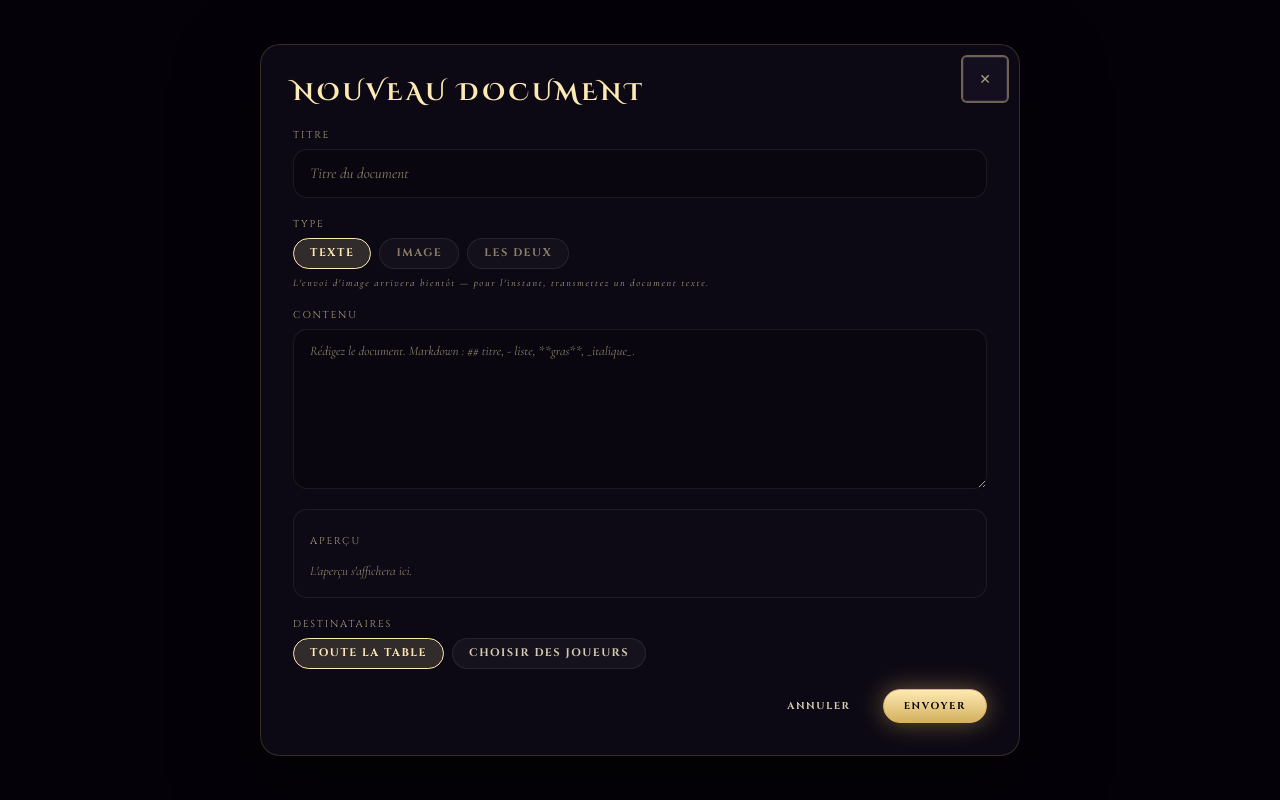
Test: HandoutEditorModal — création › bloque l’envoi sans contenu
Type "Une lettre" into the field with placeholder "Titre du document" at (640, 174), box [293, 149, 987, 198]
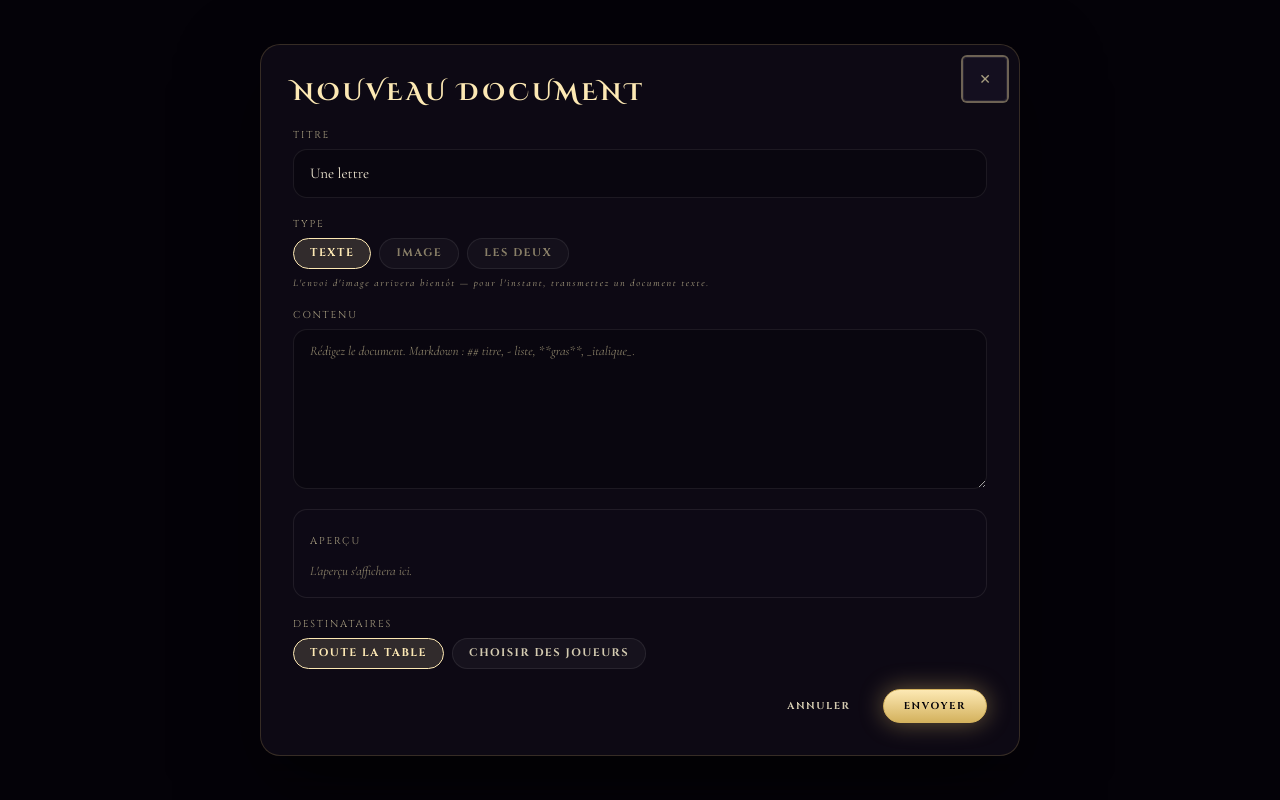
Click the button "Envoyer" at (935, 706), box [883, 689, 987, 723]
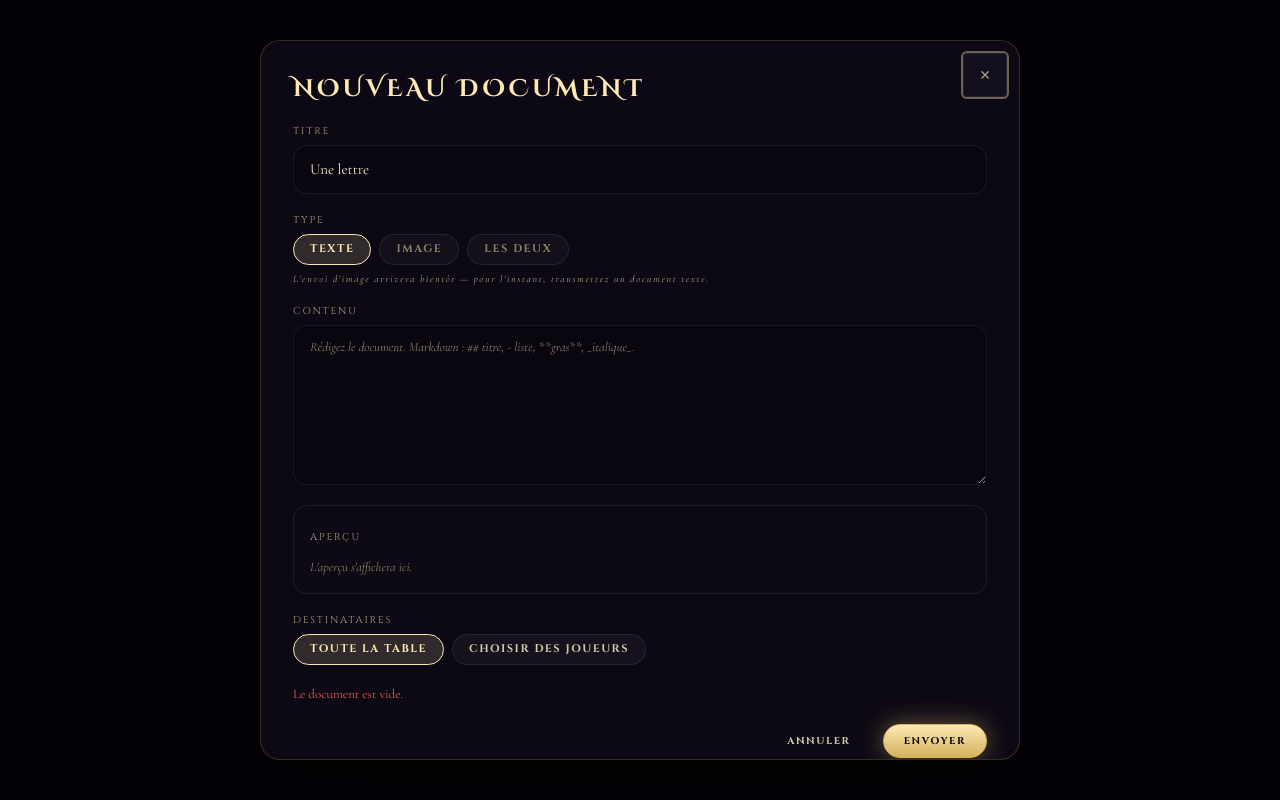
Expected: the text "Le document est vide." is shown, [293, 686, 403, 702]
